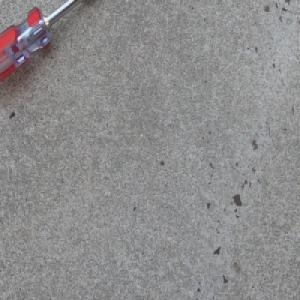Screwdriver: (0, 0, 95, 92)
